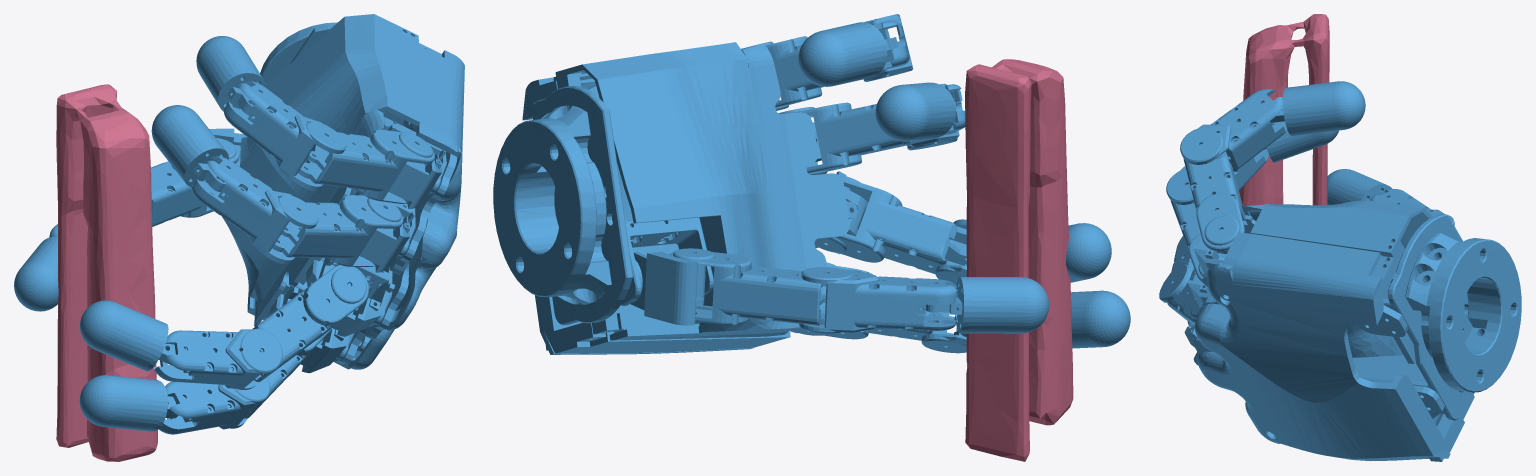
The picture shows the model from 3 angles, left to right: view 1: azimuth 30°, elevation 25°; view 2: azimuth 150°, elevation 25°; view 3: azimuth 270°, elevation 25°; orthographic projection. The views are drawn at different scales.
Visible parts, largest first — view 1: 0; view 2: 0; view 3: 0.
Boxes of the visible parts, x1,y1,x2,y2 form: 0: [14, 14, 464, 461]; 0: [493, 14, 1130, 461]; 0: [1159, 14, 1521, 461].
Size of the model in its own units: 0.2082 by 0.153 by 0.1482.
